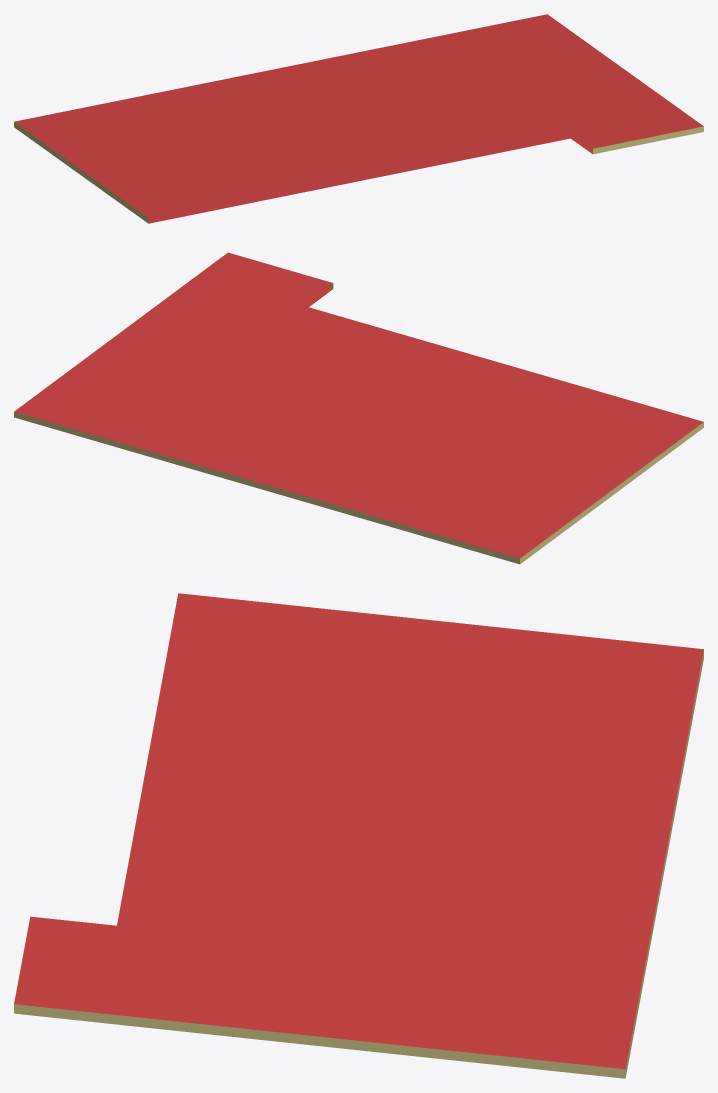
The picture shows the model from 3 angles, top to bottom: view 1: azimuth 30°, elevation 25°; view 2: azimuth 150°, elevation 25°; view 3: azimuth 270°, elevation 25°; orthographic projection. The views are drawn at different scales.
Bounding box in the file's own units: 9.93 × 6.61 × 0.574.
